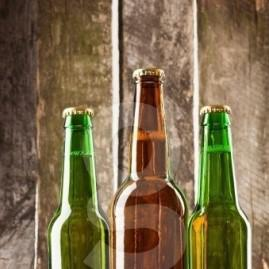beer: (46, 67, 251, 269)
